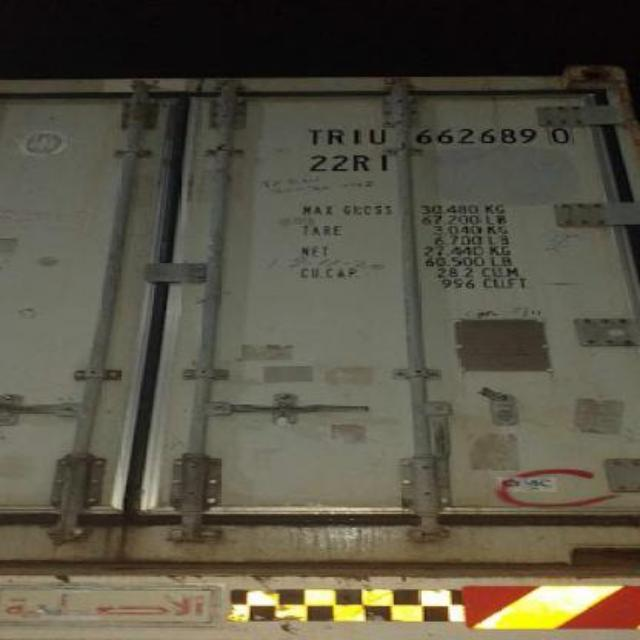0: (546, 127, 576, 145)
2: (456, 125, 478, 145)
6: (480, 125, 500, 145), (412, 127, 436, 143), (436, 126, 456, 144)
8: (500, 124, 518, 146)
9: (518, 124, 540, 146)
I: (348, 126, 366, 146)
R: (327, 128, 348, 146)
T: (304, 127, 326, 145)
U: (366, 126, 390, 144)
